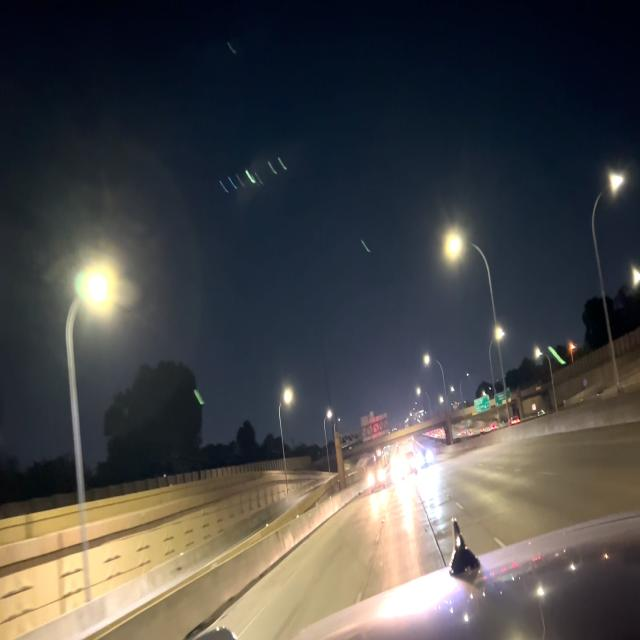back-of-sign: (360, 409, 390, 444)
